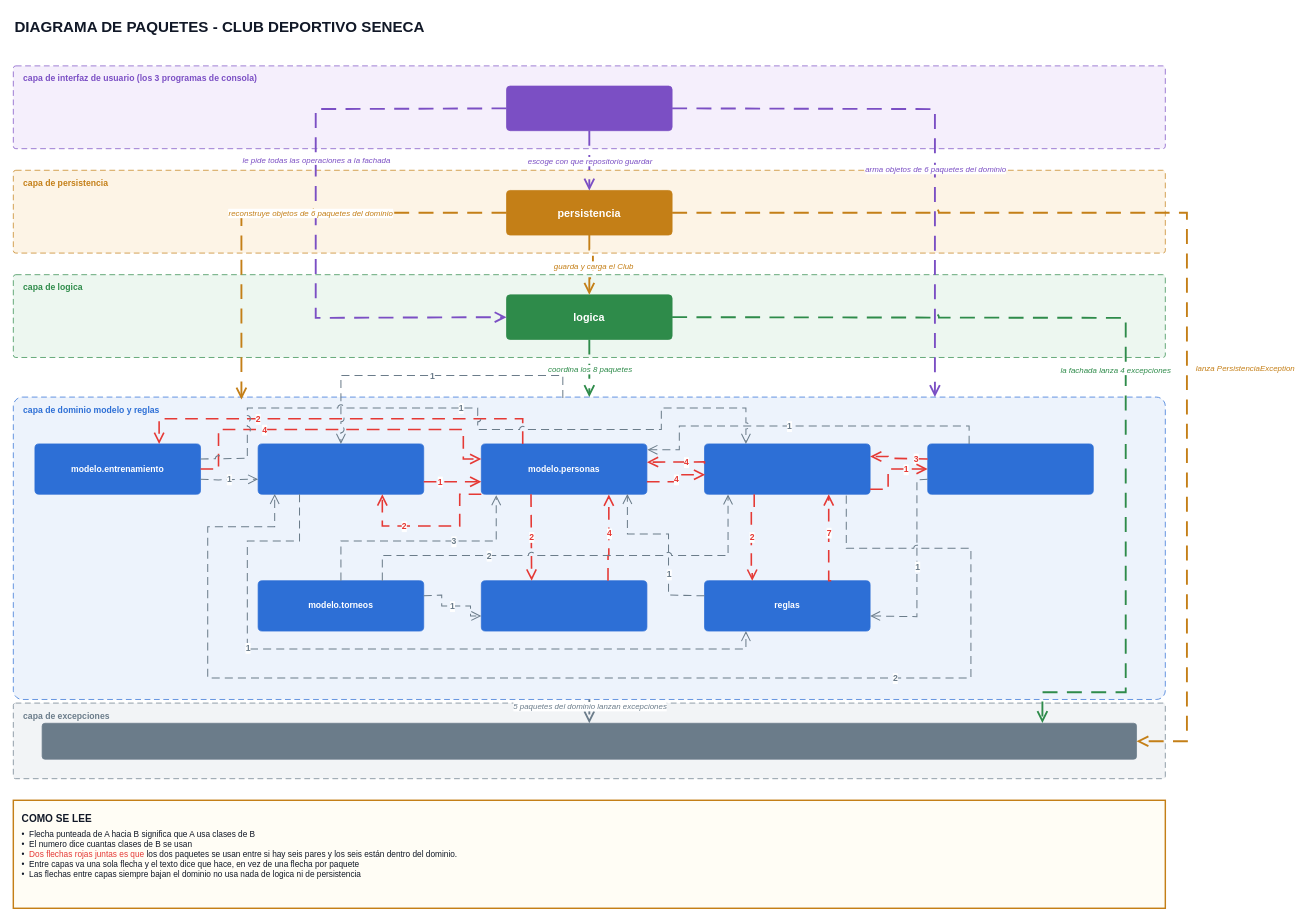
Image size: 1307x921. Some labels were removed from this diagram. The shapes that lost their labels are listed below. From the top down, each one's centre as x and y in pixels, then its label:
[589,108]: consola
[340,468]: modelo.academias
[787,468]: modelo.deportes
[1010,468]: modelo.competencias
[564,605]: modelo.tienda
[589,741]: excepciones
